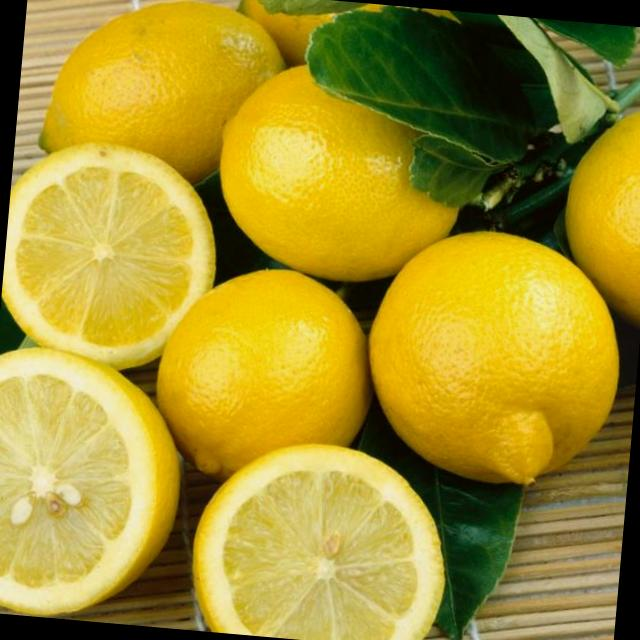lemon: (350, 215, 638, 498), (200, 58, 480, 281), (161, 435, 461, 640), (0, 342, 197, 628), (143, 260, 390, 486), (0, 137, 226, 360), (30, 0, 284, 184)
